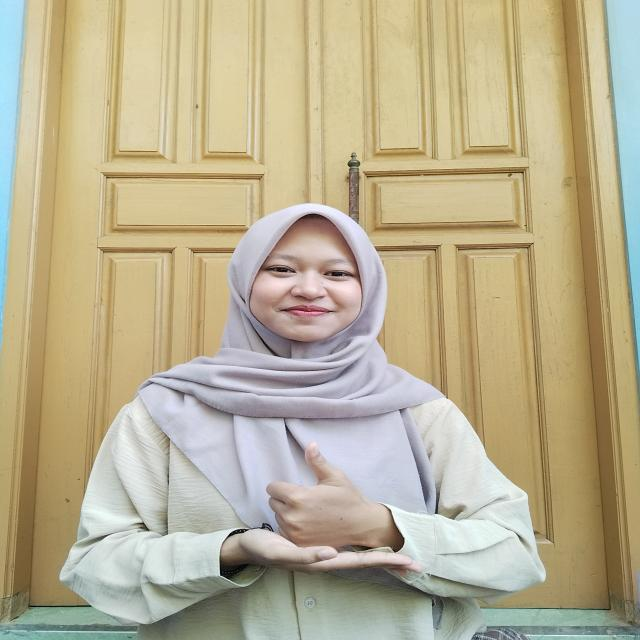cantik: (162, 449, 460, 572)
